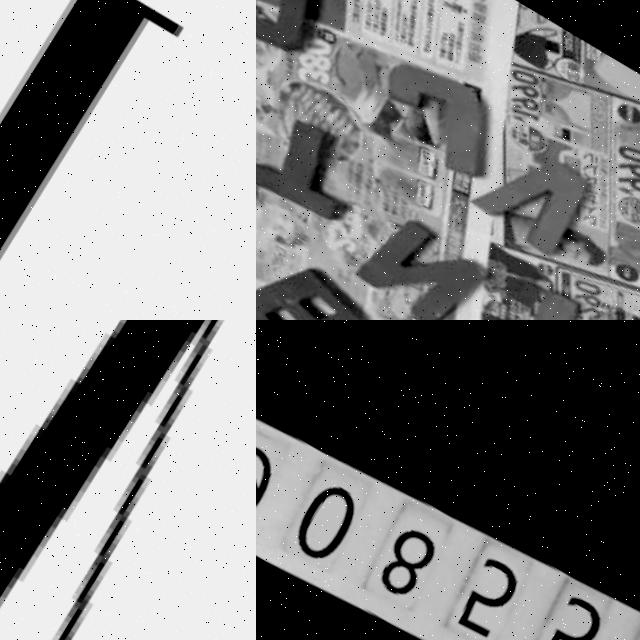0: (271, 462, 379, 579)
5: (435, 536, 541, 640), (523, 577, 623, 640)
8: (358, 507, 455, 613)
9: (256, 422, 296, 538)
B: (256, 234, 389, 320)
I: (0, 0, 201, 320)
J: (362, 50, 521, 185)
N: (354, 206, 502, 320)
O: (256, 0, 346, 63)
P: (509, 285, 640, 320)
T: (256, 106, 380, 228)
V: (0, 320, 256, 640), (472, 133, 605, 259)
